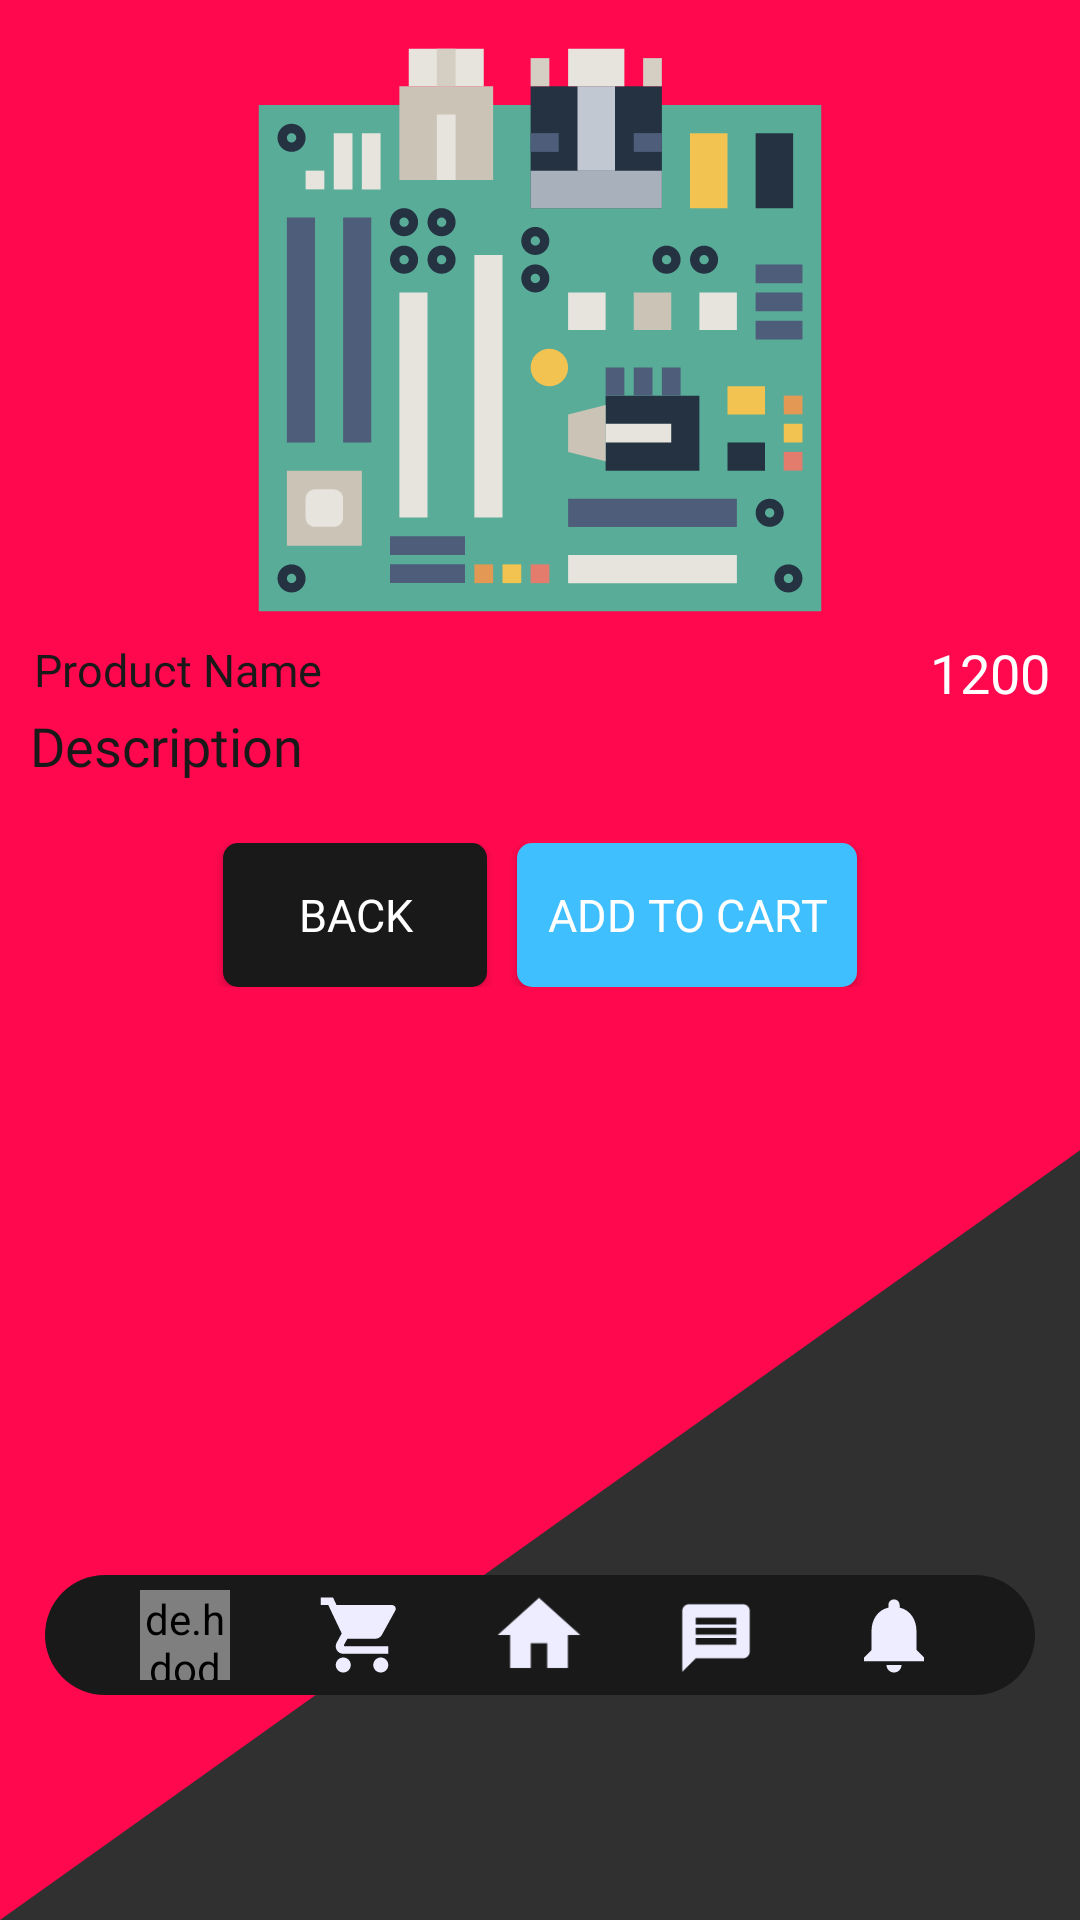

Named icons in this screenshot (1080px×1920px) and their bounding boxes, region(x1, y1, x2, y2):
notifications: region(864, 1599, 924, 1673)
shopping cart: region(320, 1597, 396, 1673)
